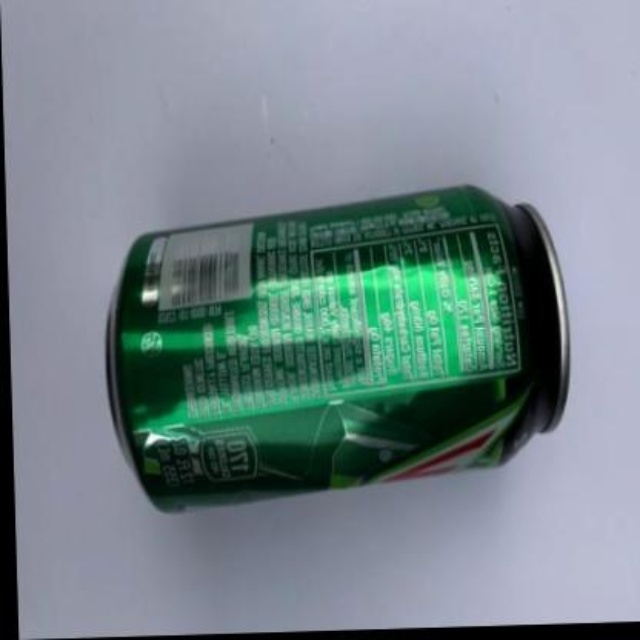trash: (108, 186, 568, 509)
